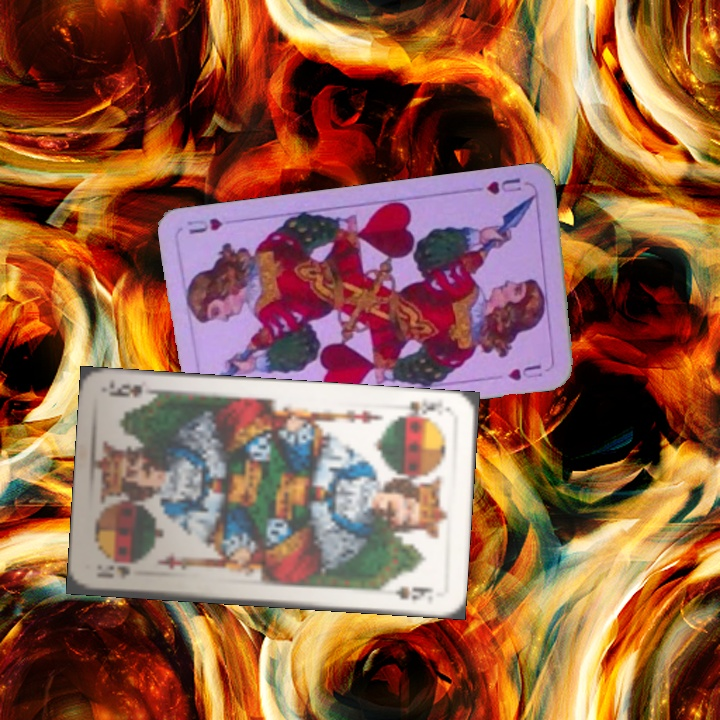HU: (482, 173, 528, 197)
SK: (394, 396, 440, 423), (92, 561, 133, 581)
